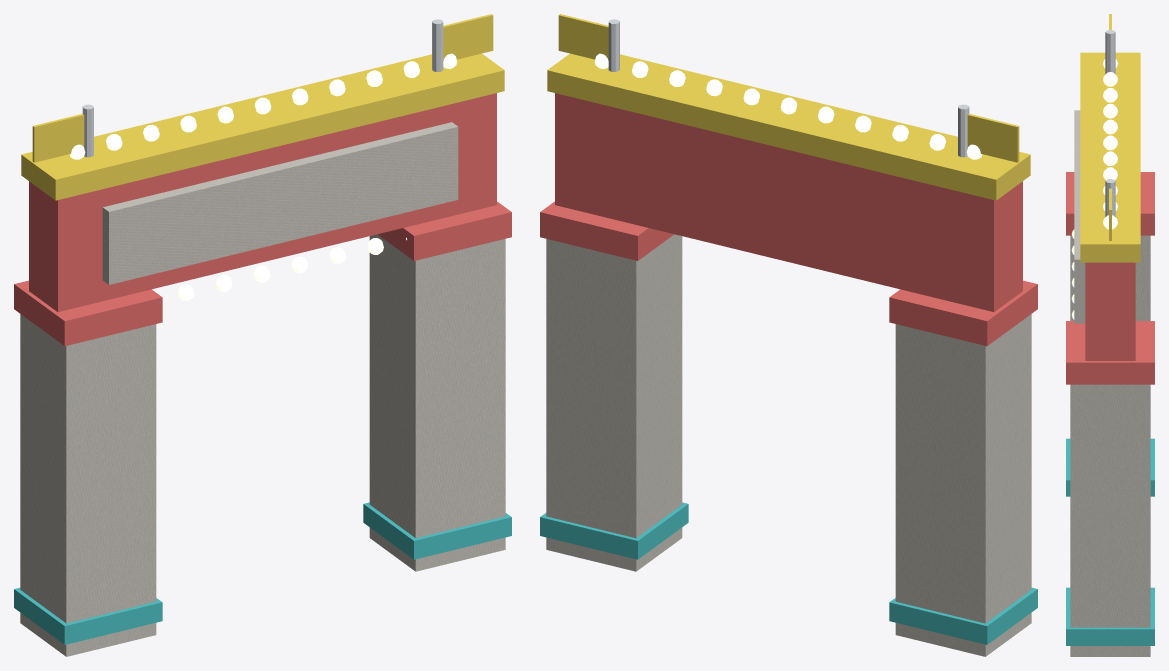
Rendered from theme-park-rides-and-coasters-theme-park-rides-and-coa-0254f695__28670.glb.
3 views of the same model, side by side, from view 1: azimuth 30°, elevation 25°; view 2: azimuth 150°, elevation 25°; view 3: azimuth 270°, elevation 25° (orthographic). The views are drawn at different scales.
Parts seen in each view (by area): view 1: theme-park-rides-and-coasters-ride-entrance-arch; view 2: theme-park-rides-and-coasters-ride-entrance-arch; view 3: theme-park-rides-and-coasters-ride-entrance-arch.
Boxes of the visible parts, bbox=[...] form: theme-park-rides-and-coasters-ride-entrance-arch: bbox=[14, 14, 511, 656]; theme-park-rides-and-coasters-ride-entrance-arch: bbox=[540, 14, 1037, 656]; theme-park-rides-and-coasters-ride-entrance-arch: bbox=[1066, 14, 1154, 656].
Bounding box in the file's own units: 4.6 × 5 × 0.8799.
Materials: 6 (1 with a texture image).
